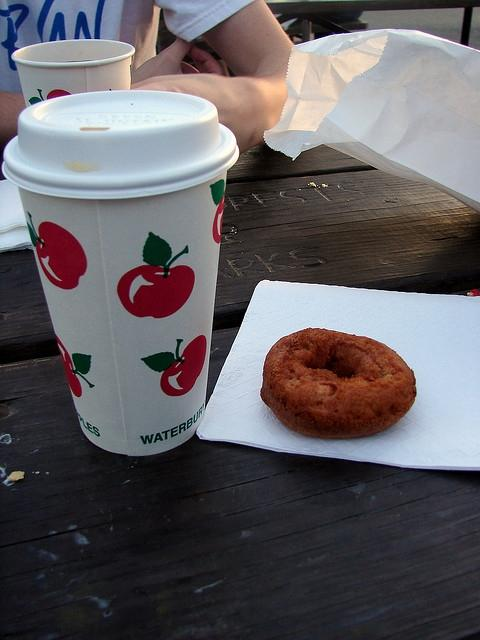apple: (118, 232, 194, 318), (26, 212, 88, 290), (142, 335, 206, 397), (56, 337, 96, 398), (210, 179, 226, 244), (48, 89, 70, 100)
